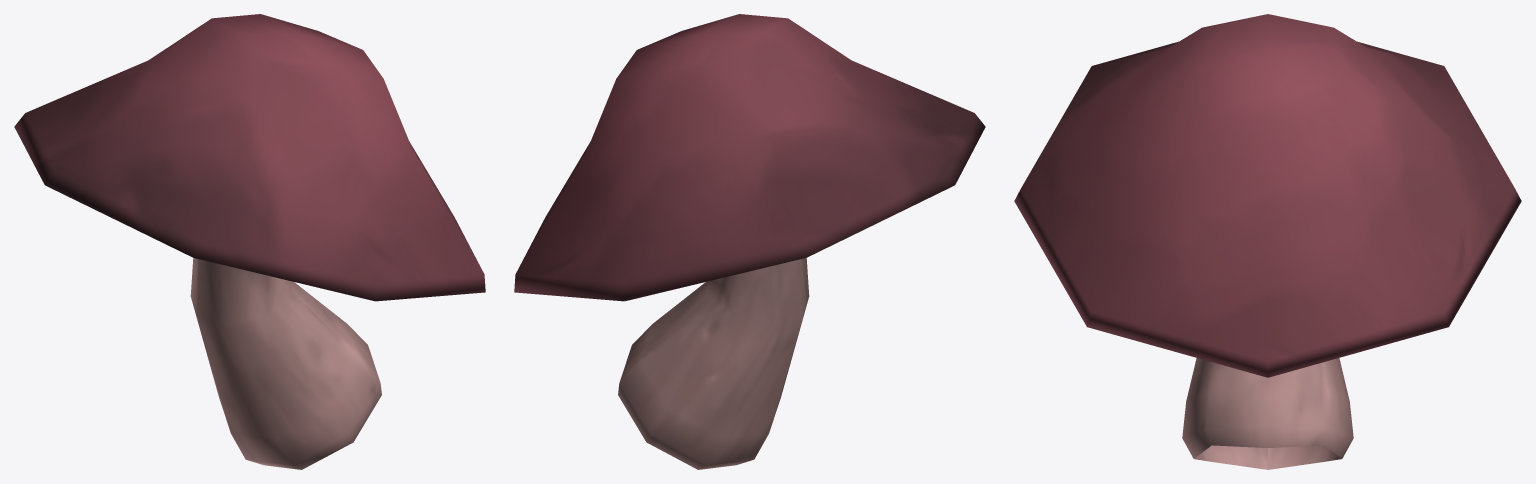
Rendered from PROP_Shroom_01_block.fbx.
The picture shows the model from 3 angles, left to right: view 1: azimuth 30°, elevation 25°; view 2: azimuth 150°, elevation 25°; view 3: azimuth 270°, elevation 25°; orthographic projection.
Visible parts, largest first — view 1: PROP_Shroom_01_block; view 2: PROP_Shroom_01_block; view 3: PROP_Shroom_01_block.
Boxes of the visible parts, box(x1,y1,x2,y2) form: PROP_Shroom_01_block: box(14, 14, 485, 469); PROP_Shroom_01_block: box(514, 14, 985, 469); PROP_Shroom_01_block: box(1014, 14, 1521, 469).
Size of the model in its own units: 60.5 by 61.58 by 64.03.
Materials: 1 (1 with a texture image).
